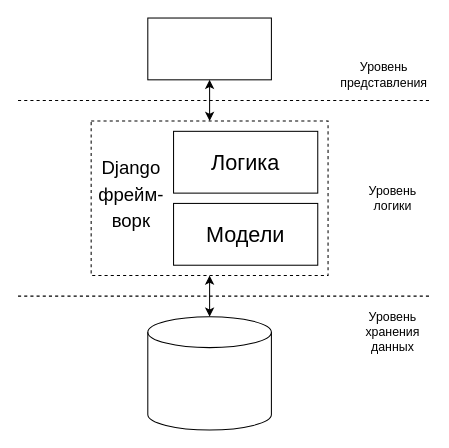
Image size: 449x448. Some labels were removed from this diagram. The shapes that lost their labels are listed below. From the top down, each one's box as (x1, y1, x2, y2) in pixels, then its label:
(147, 17, 271, 80): Django шаблоны
(147, 316, 271, 430): PostgreSQL
